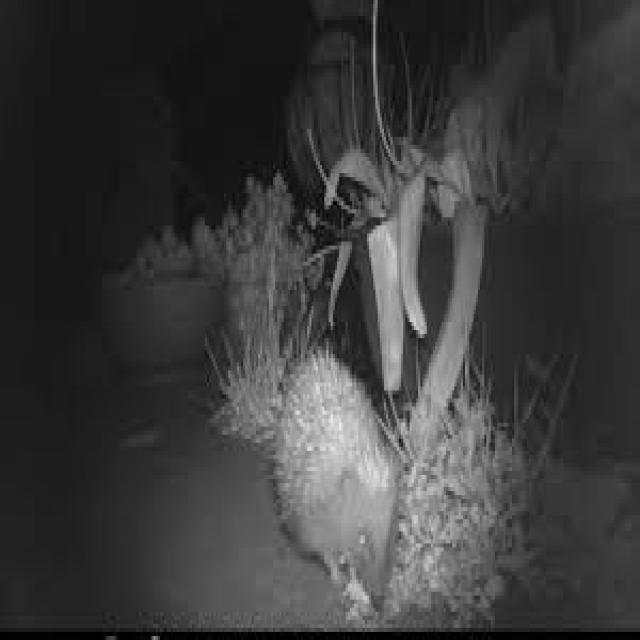Hedgehog: (267, 342, 409, 615)
